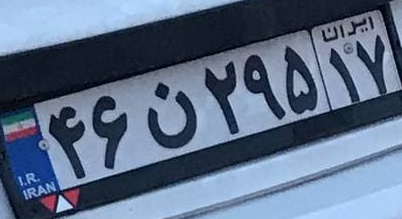character: (140, 79, 198, 152), (88, 89, 131, 170), (240, 51, 285, 124), (48, 102, 88, 183), (202, 57, 241, 138), (282, 42, 321, 115), (355, 33, 394, 99), (327, 45, 360, 104)
